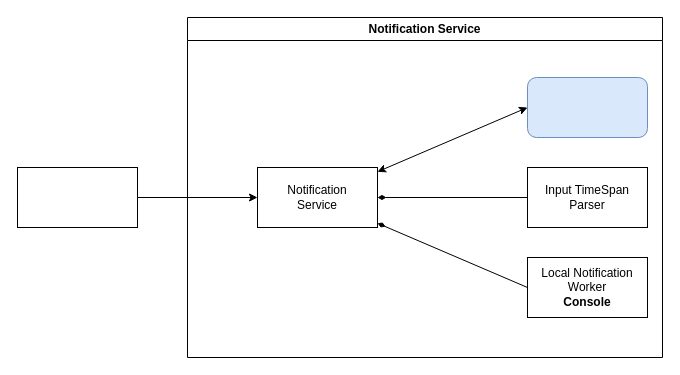
This 680x375 diagram has some shape labels left out. Each missing label, with the centre of its shape:
Client: point 77,197
Local Cache: point 587,107
